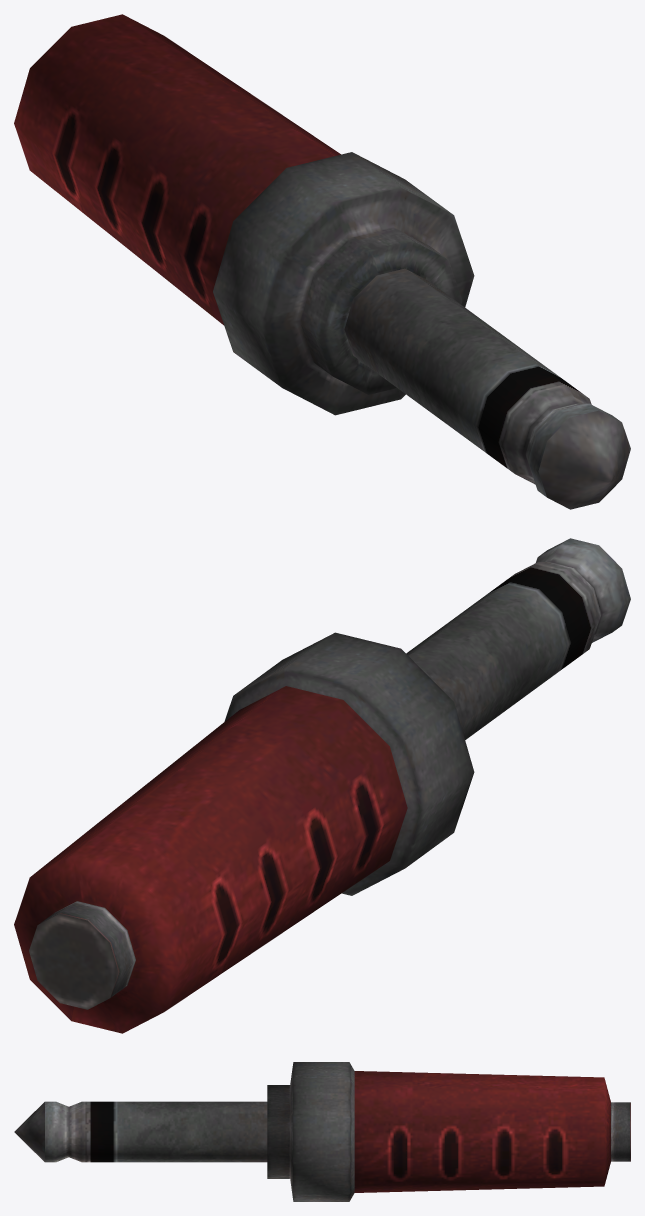
The model's file is cord_server_plug.dae.
3 views of the same model, one above another, from view 1: azimuth 30°, elevation 25°; view 2: azimuth 150°, elevation 25°; view 3: azimuth 270°, elevation 25° (orthographic). The views are drawn at different scales.
Parts seen in each view (by area): view 1: cord_server_plug; view 2: cord_server_plug; view 3: cord_server_plug.
Boxes of the visible parts, x1,y1,x2,y2 form: cord_server_plug: (14, 14, 630, 509); cord_server_plug: (14, 538, 630, 1033); cord_server_plug: (14, 1062, 630, 1201).
Size of the model in its own units: 2.2 by 2.09 by 9.62.
